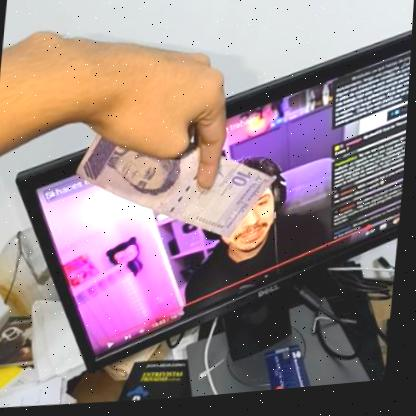ten-front-vef: (69, 104, 288, 264)
